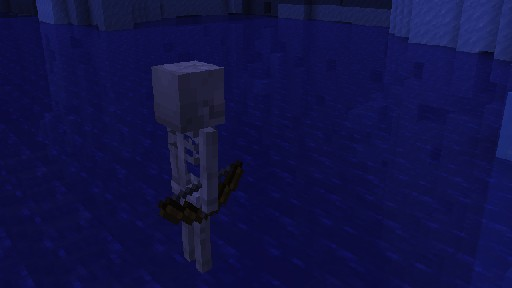skeleton: (150, 59, 243, 273)
